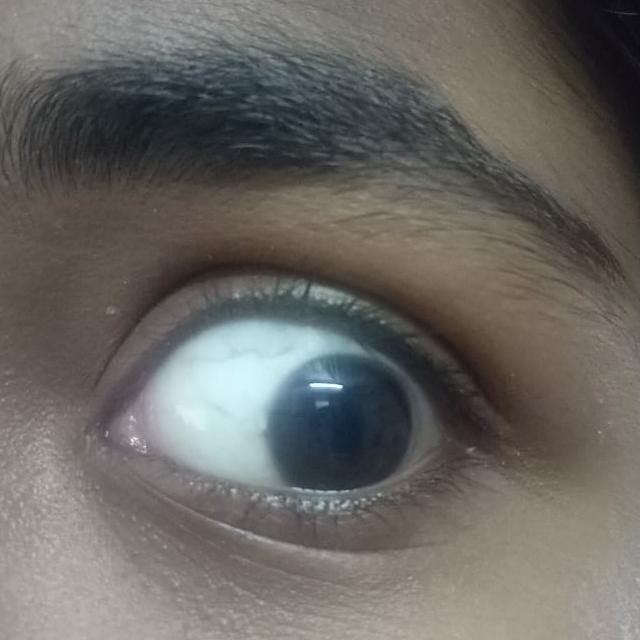eye: (126, 314, 457, 497)
iris: (263, 351, 418, 486)
